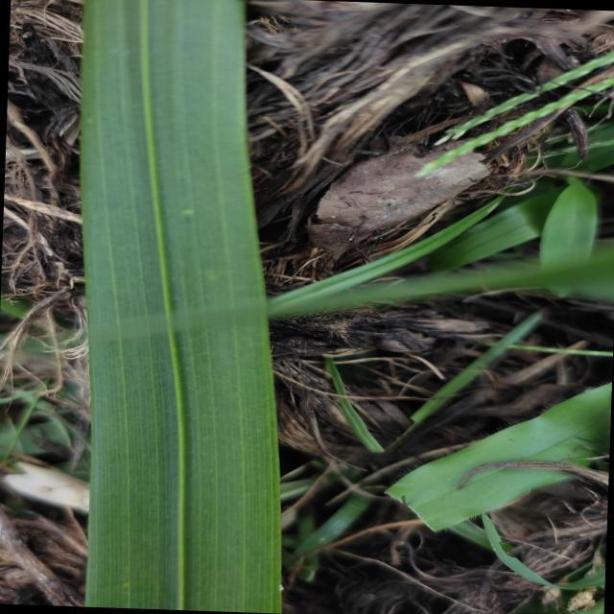Healthy: (80, 0, 281, 614)
